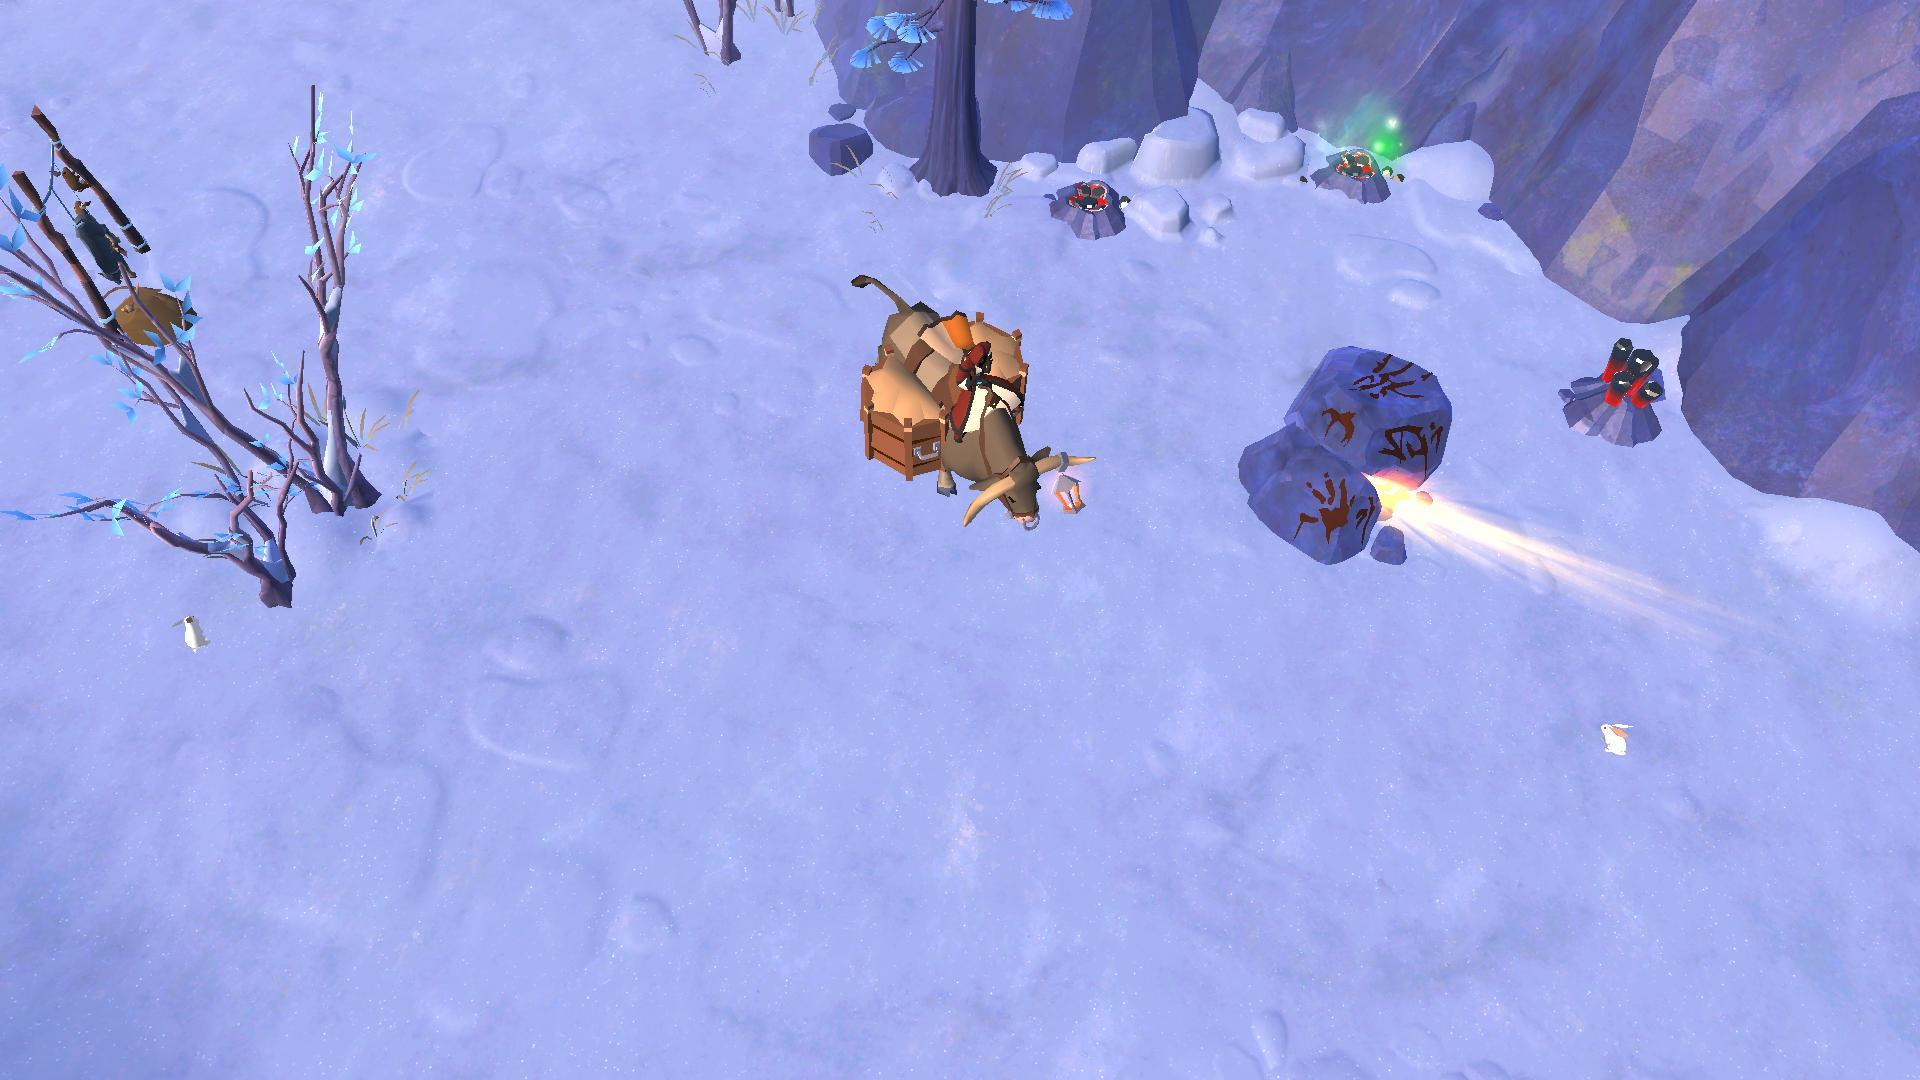ore_t5: (1593, 330, 1668, 418)
